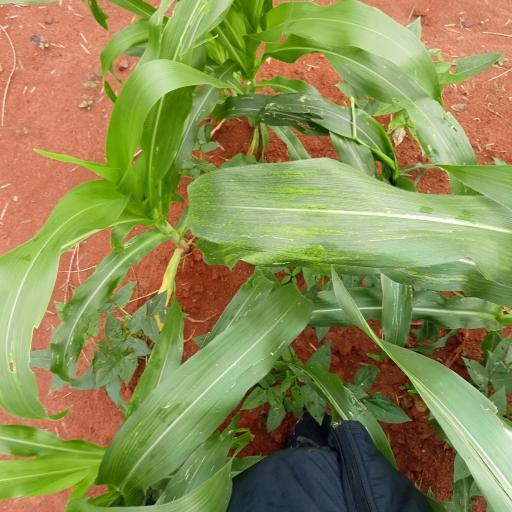Corn_Brown_Spots: (174, 163, 512, 296), (2, 182, 128, 426)
